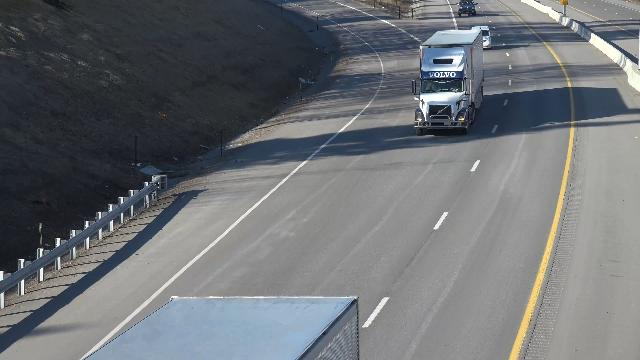car: (456, 0, 481, 17)
truck: (412, 27, 482, 135)
van: (468, 24, 497, 52)
